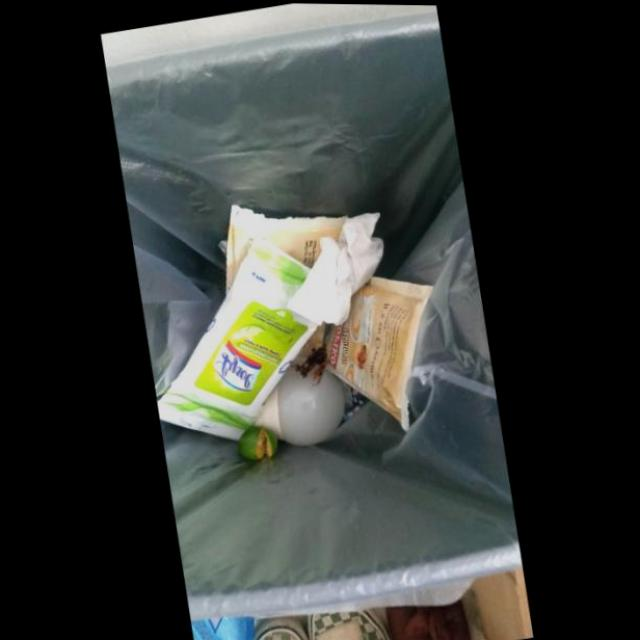giay: (285, 212, 383, 329)
goi_nhua_nho: (156, 239, 319, 441), (324, 276, 432, 431), (224, 205, 345, 295)
thuc_an_thua: (237, 425, 279, 460)
